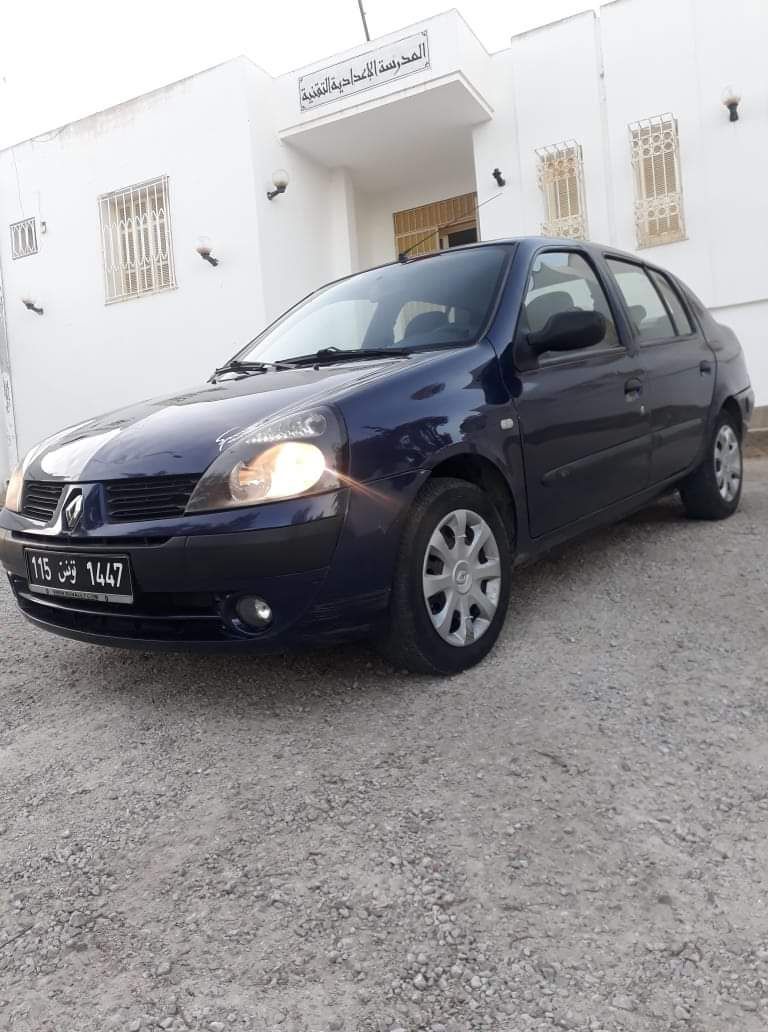LP: (21, 546, 136, 604)
